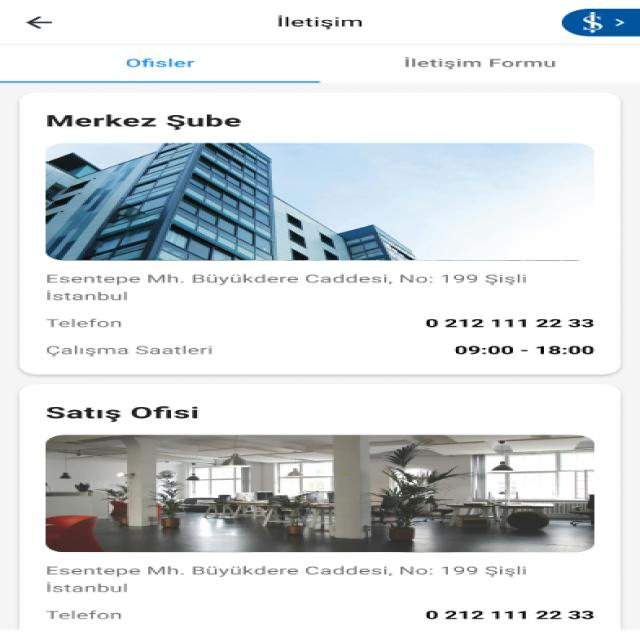QLabel: (39, 272, 535, 286), (39, 564, 528, 578), (35, 112, 246, 130), (38, 342, 218, 361), (413, 316, 599, 332), (35, 404, 203, 421), (391, 55, 561, 70), (420, 608, 595, 622), (448, 342, 599, 358), (269, 13, 366, 32), (104, 55, 203, 71), (38, 582, 135, 596), (38, 289, 134, 303), (43, 608, 124, 624), (41, 316, 123, 331)
VAppBar: (0, 0, 640, 45)
VCard: (19, 90, 624, 377), (20, 382, 625, 640)
VIcon: (20, 14, 56, 31)
VImg: (43, 434, 595, 554), (44, 143, 597, 260), (562, 8, 640, 36)
VTab: (11, 52, 323, 78), (356, 52, 626, 76)
VTabs: (0, 46, 640, 85)
